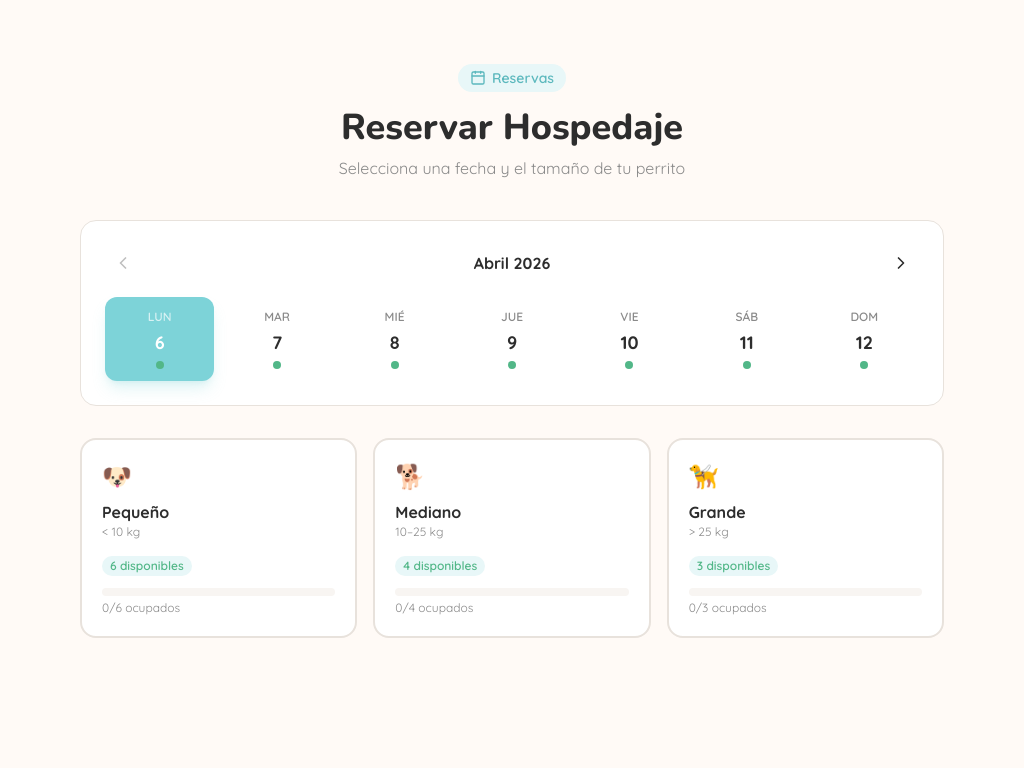
Test: BookingPage › shows booking form after selecting size
Click the button "🐶 Pequeño < 10 kg 6 disponibles 0/6 ocupados". click: (136, 512)
box: [80,438,357,638]
(page scrolled)
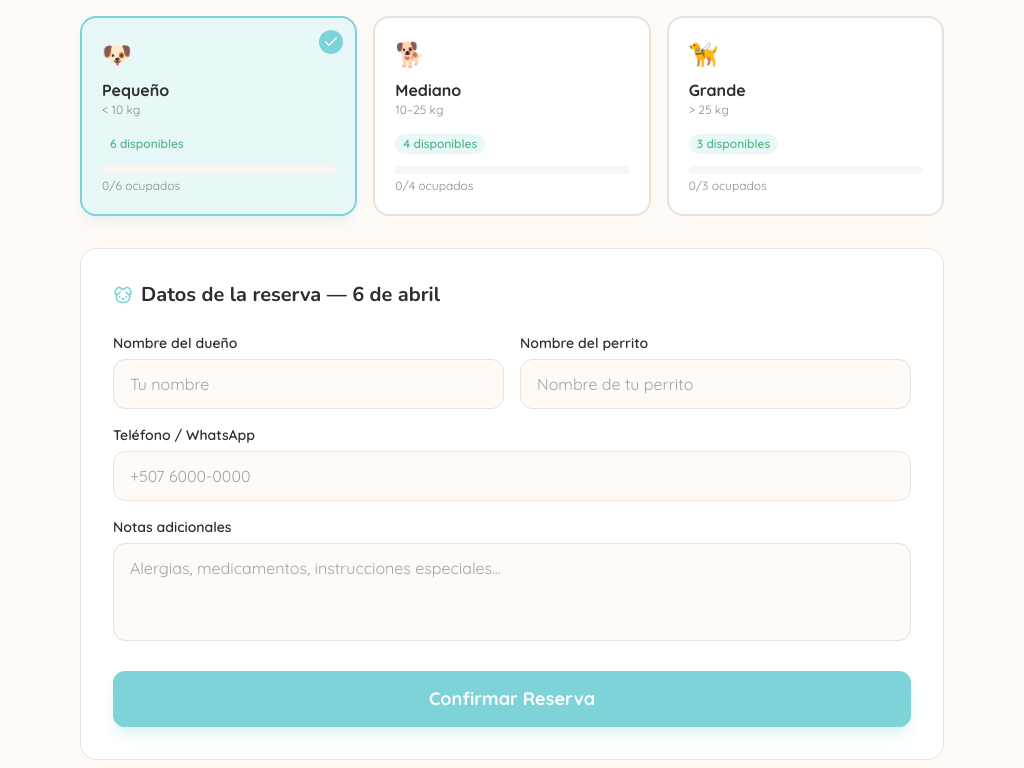
Expected: the field with placeholder "Tu nombre" is shown, [113,359,504,409]
